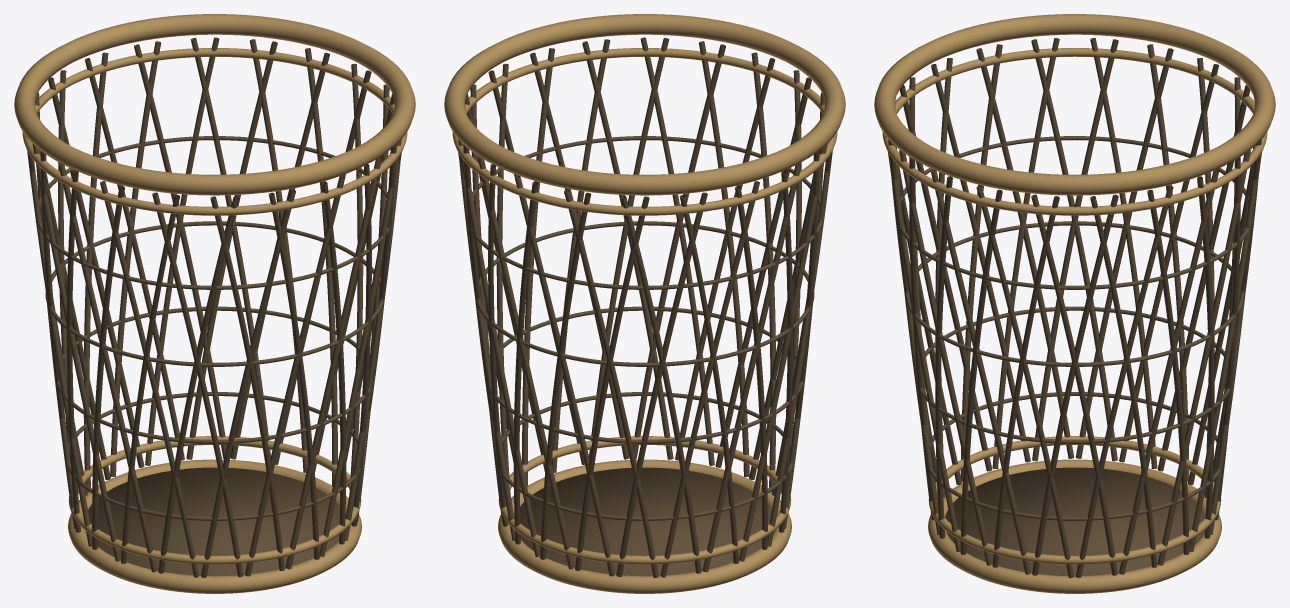
Rendered from WasteBasket.fbx.
3 views of the same model, side by side, from view 1: azimuth 30°, elevation 25°; view 2: azimuth 150°, elevation 25°; view 3: azimuth 270°, elevation 25° (orthographic).
Parts seen in each view (by area): view 1: Basket_Mesh; view 2: Basket_Mesh; view 3: Basket_Mesh.
Part boxes in pixels (box(x1,y1,x2,y2)): Basket_Mesh: box(14, 14, 415, 593); Basket_Mesh: box(444, 14, 845, 593); Basket_Mesh: box(874, 14, 1275, 593).
Size of the model in its own units: 0.538 by 0.6487 by 0.538.
